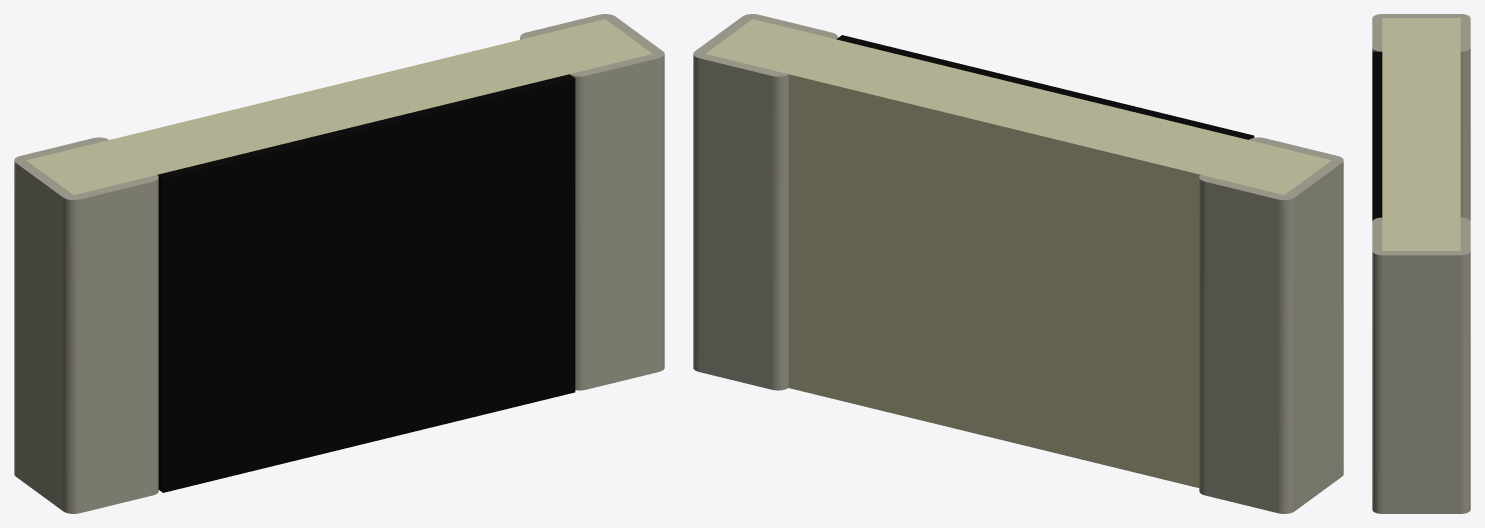
The model's file is fuse_1206_3216metric.glb.
3 views of the same model, side by side, from view 1: azimuth 30°, elevation 25°; view 2: azimuth 150°, elevation 25°; view 3: azimuth 270°, elevation 25° (orthographic). The views are drawn at different scales.
Visible parts, largest first — view 1: Fuse_1206_3216Metric; view 2: Fuse_1206_3216Metric; view 3: Fuse_1206_3216Metric.
Part boxes in pixels (left/top/right/bottom): Fuse_1206_3216Metric: left=14, top=14, right=664, bottom=513; Fuse_1206_3216Metric: left=693, top=14, right=1343, bottom=513; Fuse_1206_3216Metric: left=1372, top=14, right=1470, bottom=513.
Size of the model in its own units: 3.2 by 1.6 by 0.55.
